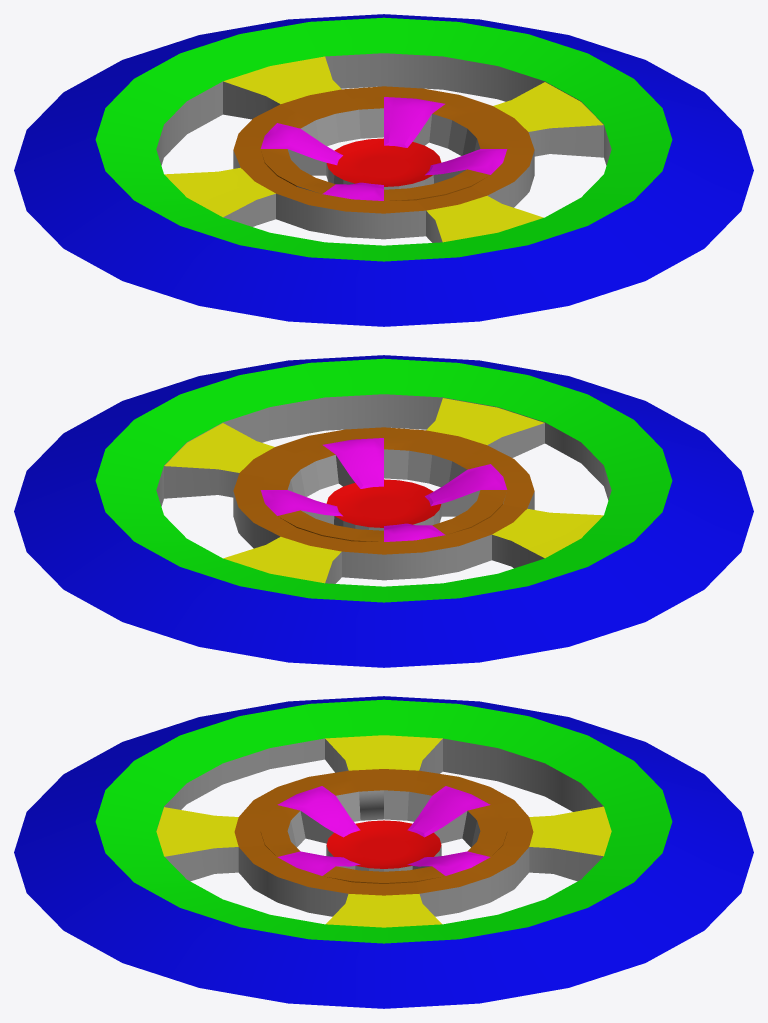
Rendered from Colored_Bridge_Arena.fbx.
3 renders of one model, top to bottom at view 1: azimuth 30°, elevation 25°; view 2: azimuth 150°, elevation 25°; view 3: azimuth 270°, elevation 25°, orthographic.
Parts seen in each view (by area): view 1: New_Wheel_Arena; view 2: New_Wheel_Arena; view 3: New_Wheel_Arena.
Part boxes in pixels (x1,y1,x2,y2): New_Wheel_Arena: (14,14,753,326); New_Wheel_Arena: (14,355,753,667); New_Wheel_Arena: (14,696,753,1008).
Bounding box in the file's own units: 39000 × 2500 × 39000.
